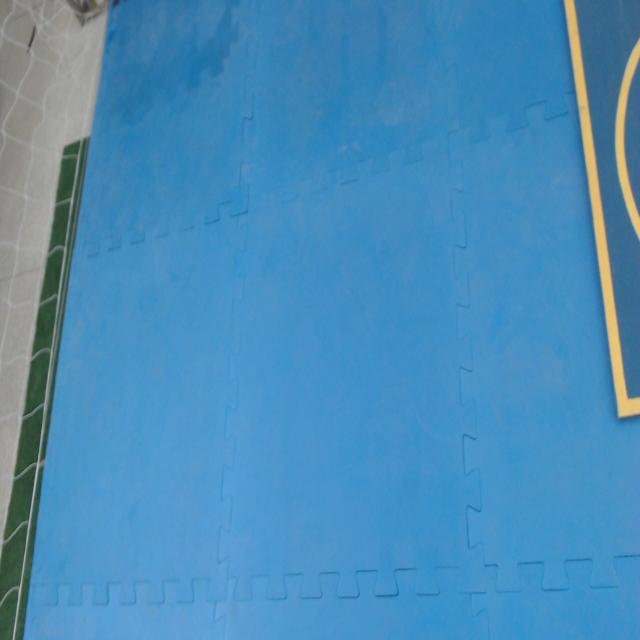base_pouso: (561, 0, 640, 422)
